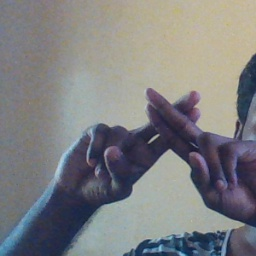F: (99, 78, 244, 191)
